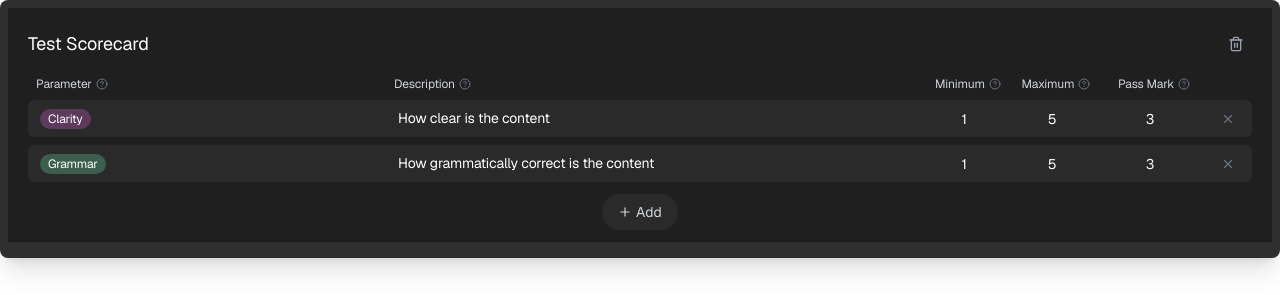
Test: Scorecard Component › should handle Escape key to cancel editing
Start editing the name
Step 1. Click the text "Clarity" → click(65, 119), box [40, 109, 91, 129]
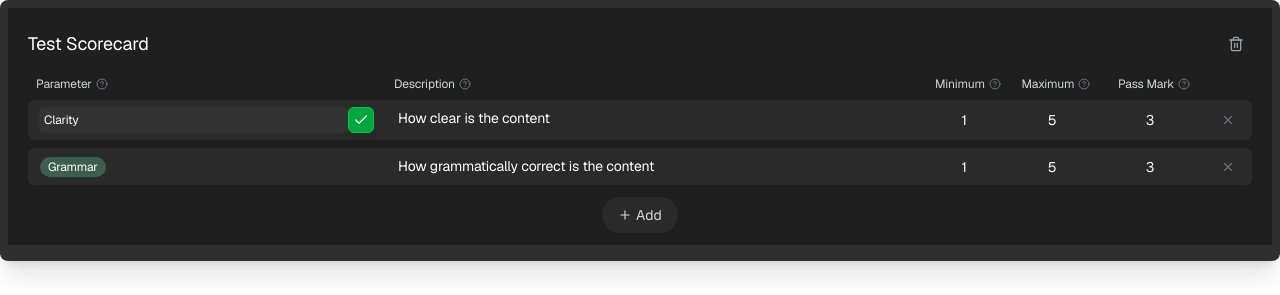
Step 2. Replace the text in the field showing "Clarity" next to "How clear is the content" with "Changed" → (207, 120), box [40, 108, 374, 132]
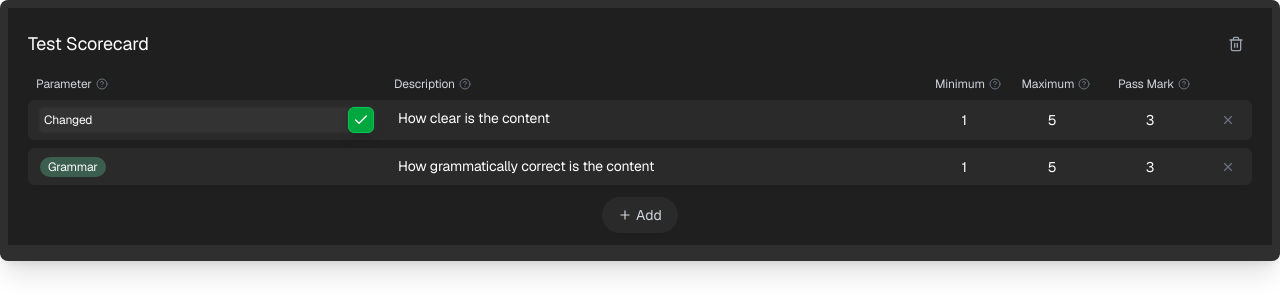
Step 3. Press Escape in the field showing "Clarity" next to "How clear is the content", box [40, 108, 374, 132]
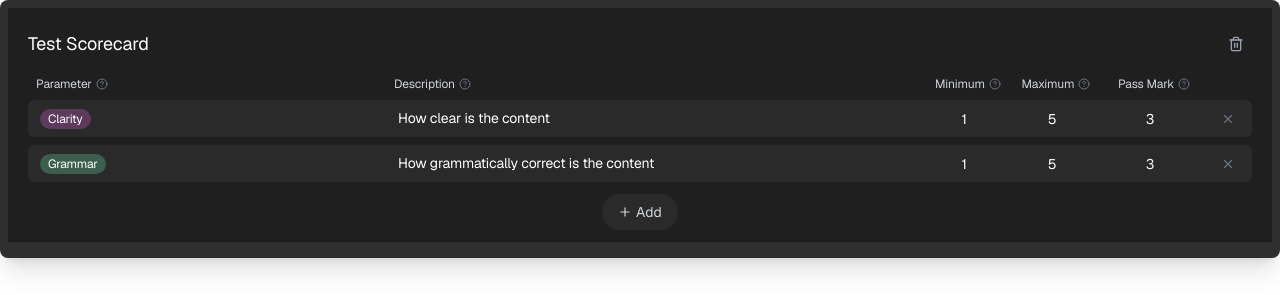
Check: the text "Clarity" is shown, box [40, 109, 91, 129]
